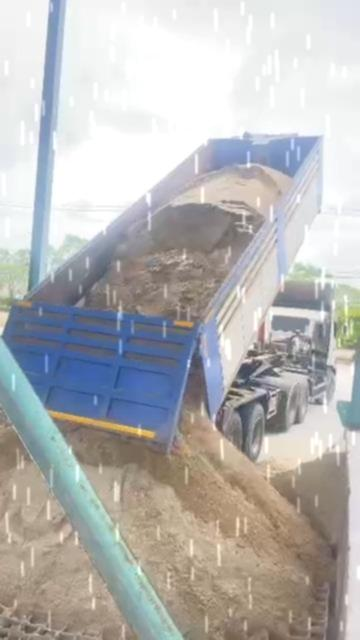sand: (66, 384, 333, 639), (85, 164, 290, 317), (0, 427, 131, 639), (270, 451, 347, 546)
